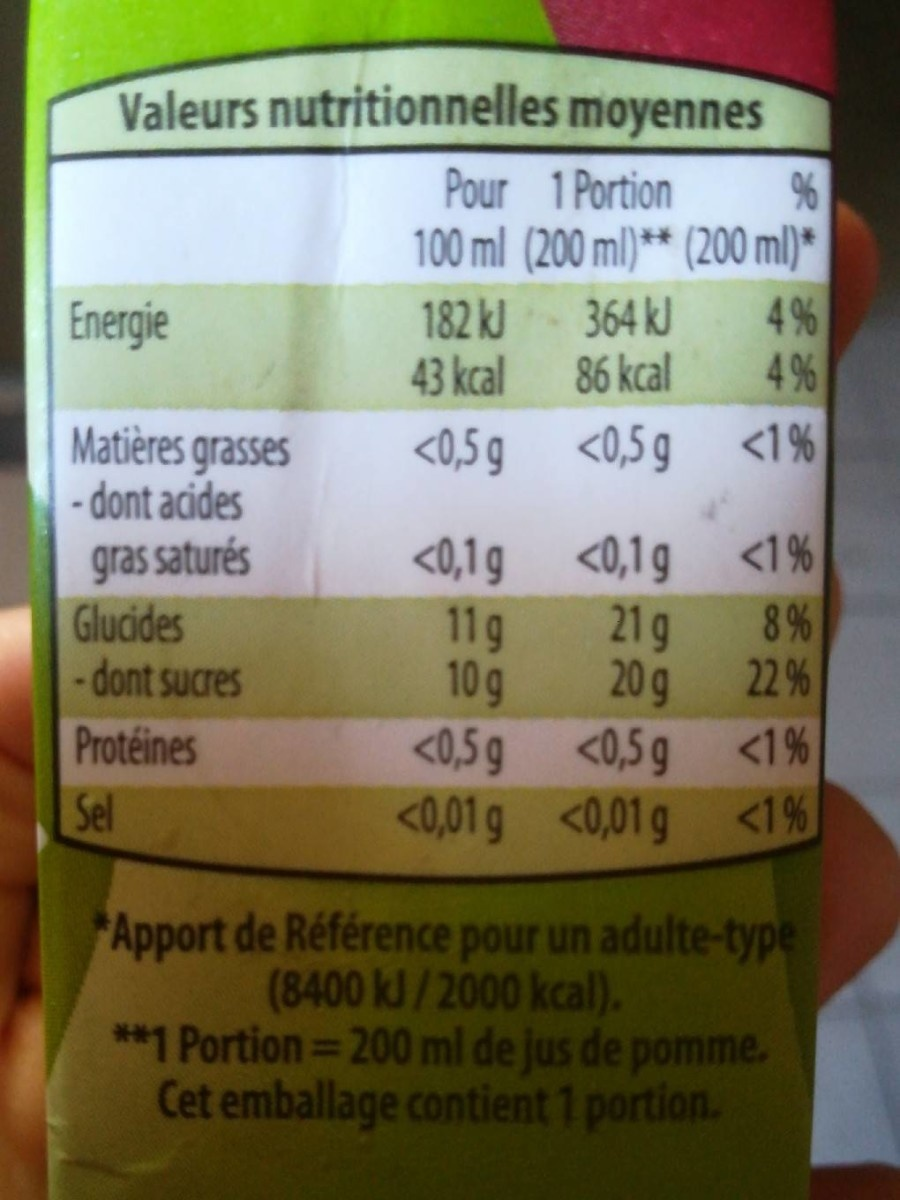column: (52, 158, 394, 882), (523, 154, 689, 882), (692, 160, 829, 887), (402, 156, 516, 883)
table: (45, 161, 827, 852)
